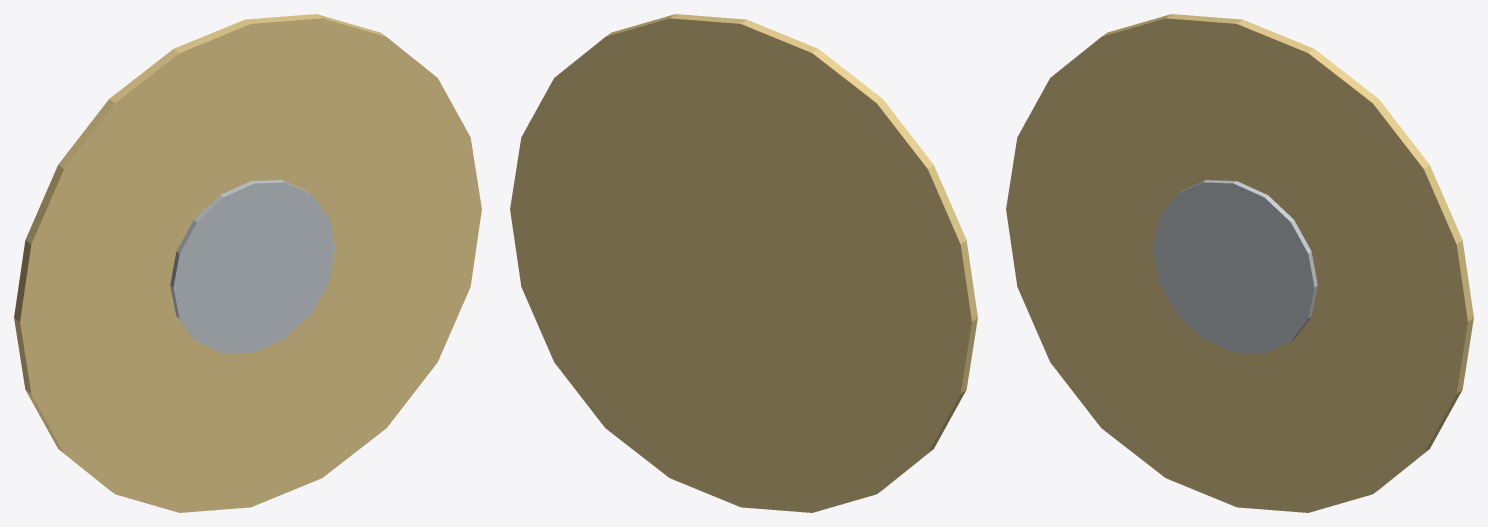
File: 67_L98_Load_Current_Test_Pad.glb
3 views of the same model, side by side, from view 1: azimuth 30°, elevation 25°; view 2: azimuth 150°, elevation 25°; view 3: azimuth 330°, elevation 25° (orthographic).
Visible parts, largest first — view 1: Probe_Pad, Probe_Center; view 2: Probe_Pad; view 3: Probe_Pad, Probe_Center.
Boxes of the visible parts, x1,y1,x2,y2 form: Probe_Pad: (14,14,481,512); Probe_Center: (170,180,334,353); Probe_Pad: (510,14,977,512); Probe_Pad: (1006,14,1473,512); Probe_Center: (1153,180,1317,353).
Bounding box in the file's own units: 0.004 × 0.004 × 0.00014.
